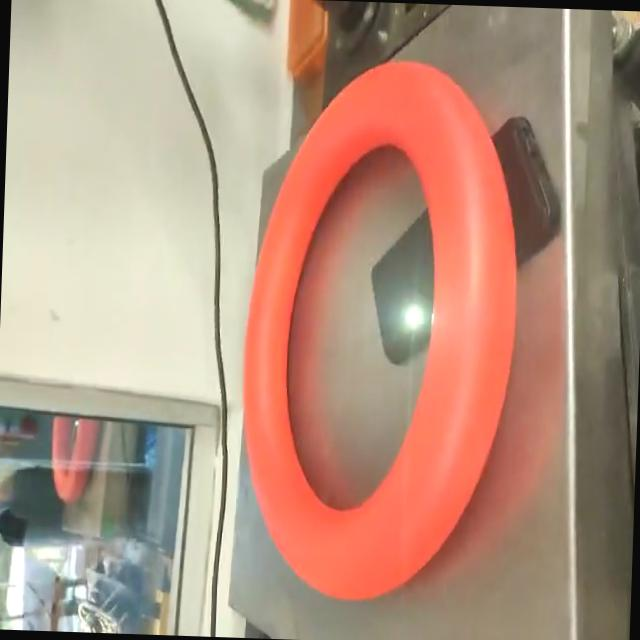note: (232, 45, 530, 608)
